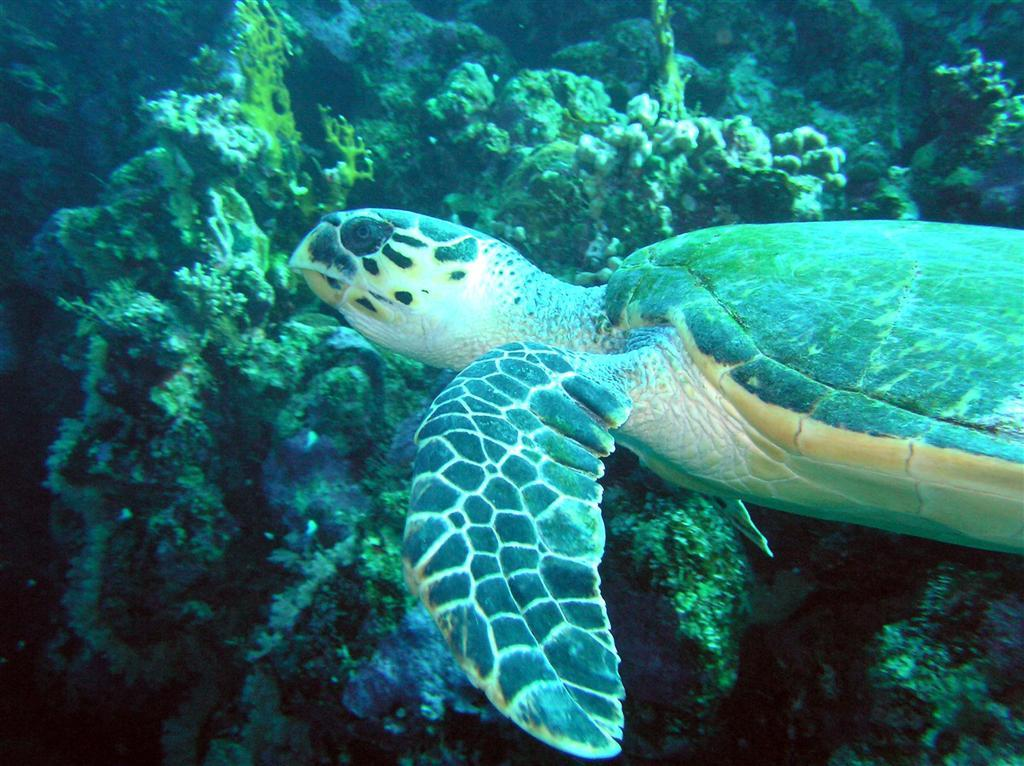Sea turtles: (286, 206, 1022, 765)
